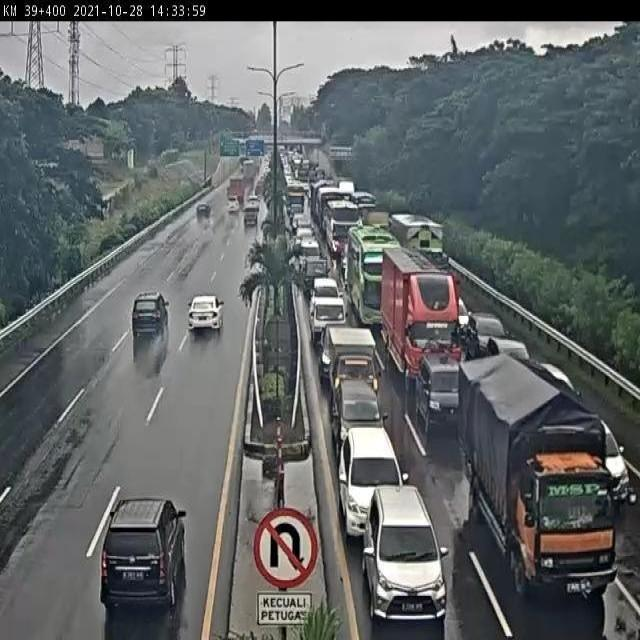Bus: (347, 223, 400, 319)
Car: (364, 484, 445, 639), (92, 495, 188, 621), (339, 426, 406, 532), (417, 354, 461, 426), (332, 379, 381, 438), (130, 289, 168, 342), (186, 294, 222, 336)
Truck: (460, 353, 616, 598), (382, 245, 456, 371)
